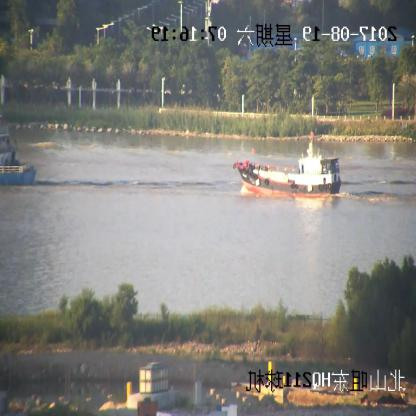Fishing Boat: (235, 143, 340, 201)
